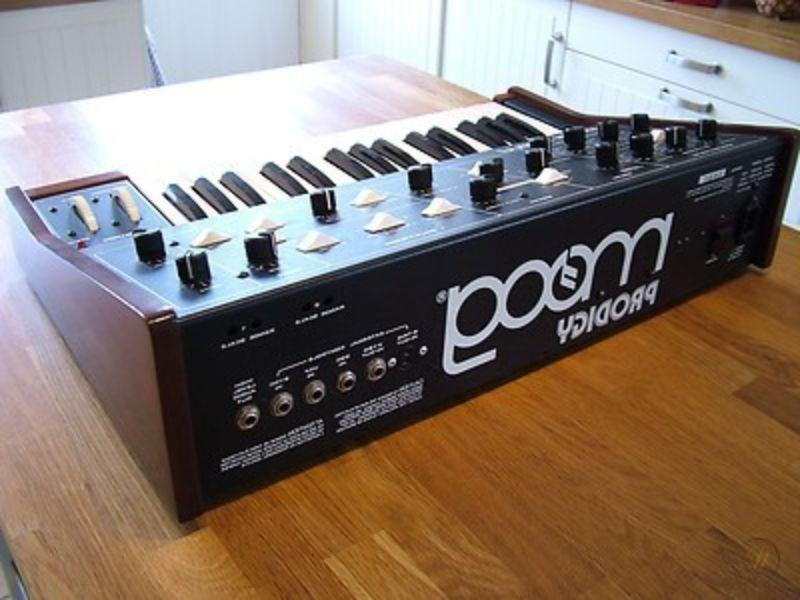synthesizer: (12, 76, 784, 537)
